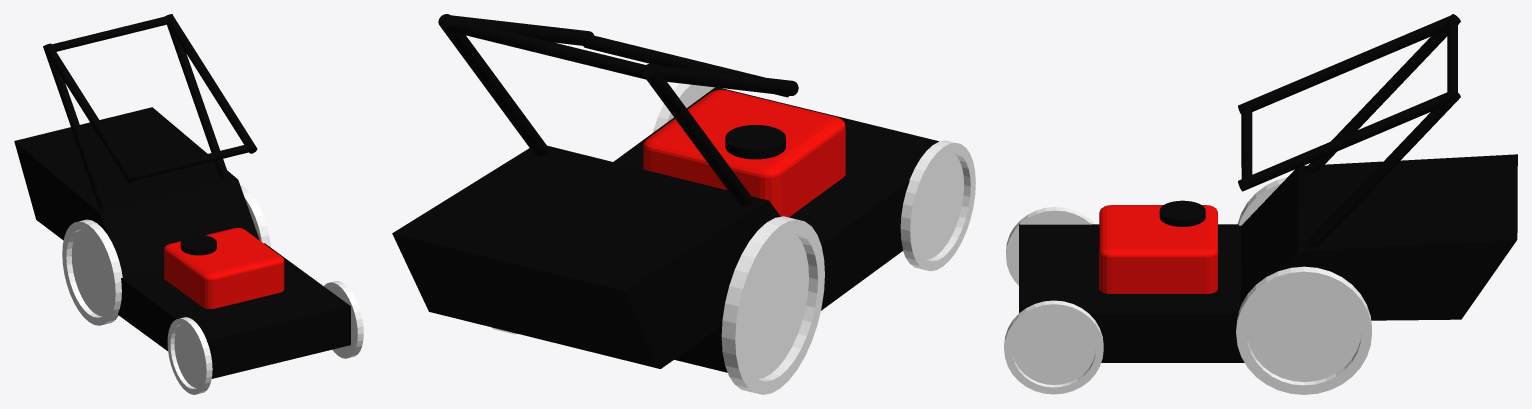
The model's file is lawnmower.fbx.
3 views of the same model, side by side, from view 1: azimuth 30°, elevation 25°; view 2: azimuth 150°, elevation 25°; view 3: azimuth 270°, elevation 25° (orthographic). The views are drawn at different scales.
Parts seen in each view (by area): view 1: body, Cube, Generator, wheel Rback, wheel Rfront, Stick R2, Stick L2, Stick R1, Stick L1, wheel Lfront, Stick Extra, Stick Extra.001 (+2 smaller); view 2: body, Cube, wheel Rback, Generator, wheel Rfront, Stick Extra, Stick R1, Stick L1, Stick R2, Stick Extra.001, Gas Cap, Stick L2 (+1 smaller); view 3: body, Cube, wheel Lback, Generator, wheel Lfront, Stick L2, Stick R2, Stick L1, Stick R1, wheel Rfront, Gas Cap, Stick Extra.001 (+2 smaller).
Boxes of the visible parts, x1=… form: body: x1=14, y1=107, x2=259, y2=276; Cube: x1=118, y1=243, x2=350, y2=378; Generator: x1=164, y1=227, x2=284, y2=308; wheel Rback: x1=62, y1=219, x2=122, y2=325; wheel Rfront: x1=167, y1=317, x2=212, y2=394; Stick R2: x1=44, y1=45, x2=135, y2=183; Stick L2: x1=168, y1=15, x2=257, y2=153; Stick R1: x1=43, y1=43, x2=108, y2=209; Stick L1: x1=165, y1=14, x2=229, y2=179; wheel Lfront: x1=324, y1=281, x2=363, y2=358; Stick Extra: x1=52, y1=16, x2=168, y2=51; Stick Extra.001: x1=133, y1=144, x2=248, y2=180; body: x1=392, y1=146, x2=780, y2=368; Cube: x1=613, y1=87, x2=938, y2=372; wheel Rback: x1=721, y1=216, x2=824, y2=394; Generator: x1=643, y1=89, x2=845, y2=217; wheel Rfront: x1=900, y1=140, x2=975, y2=271; Stick Extra: x1=448, y1=18, x2=646, y2=79; Stick R1: x1=642, y1=63, x2=754, y2=205; Stick L1: x1=438, y1=14, x2=550, y2=155; Stick R2: x1=655, y1=65, x2=798, y2=95; Stick Extra.001: x1=583, y1=34, x2=788, y2=97; Gas Cap: x1=725, y1=125, x2=785, y2=159; Stick L2: x1=451, y1=15, x2=594, y2=45; body: x1=1240, y1=154, x2=1517, y2=320; Cube: x1=1019, y1=224, x2=1244, y2=362; wheel Lback: x1=1236, y1=266, x2=1371, y2=394; Generator: x1=1099, y1=205, x2=1217, y2=293; wheel Lfront: x1=1004, y1=300, x2=1103, y2=394; Stick L2: x1=1238, y1=91, x2=1453, y2=191; Stick R2: x1=1238, y1=15, x2=1451, y2=114; Stick L1: x1=1303, y1=89, x2=1460, y2=247; Stick R1: x1=1303, y1=14, x2=1460, y2=173; wheel Rfront: x1=1006, y1=207, x2=1094, y2=285; Gas Cap: x1=1159, y1=200, x2=1205, y2=226; Stick Extra.001: x1=1241, y1=107, x2=1252, y2=178.
Size of the model in its own units: 193 by 272 by 429.
